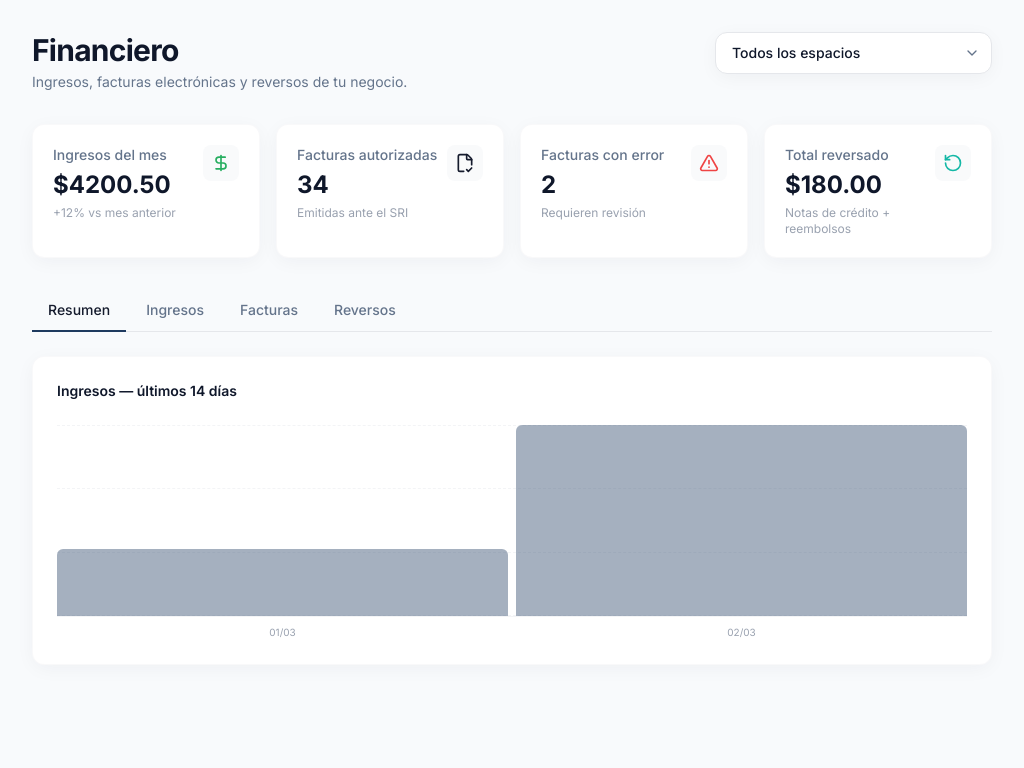
FinancieroModule › navega a la pestaña Facturas
Click the button "Facturas".
click(269, 311)  # box [224,290,314,332]
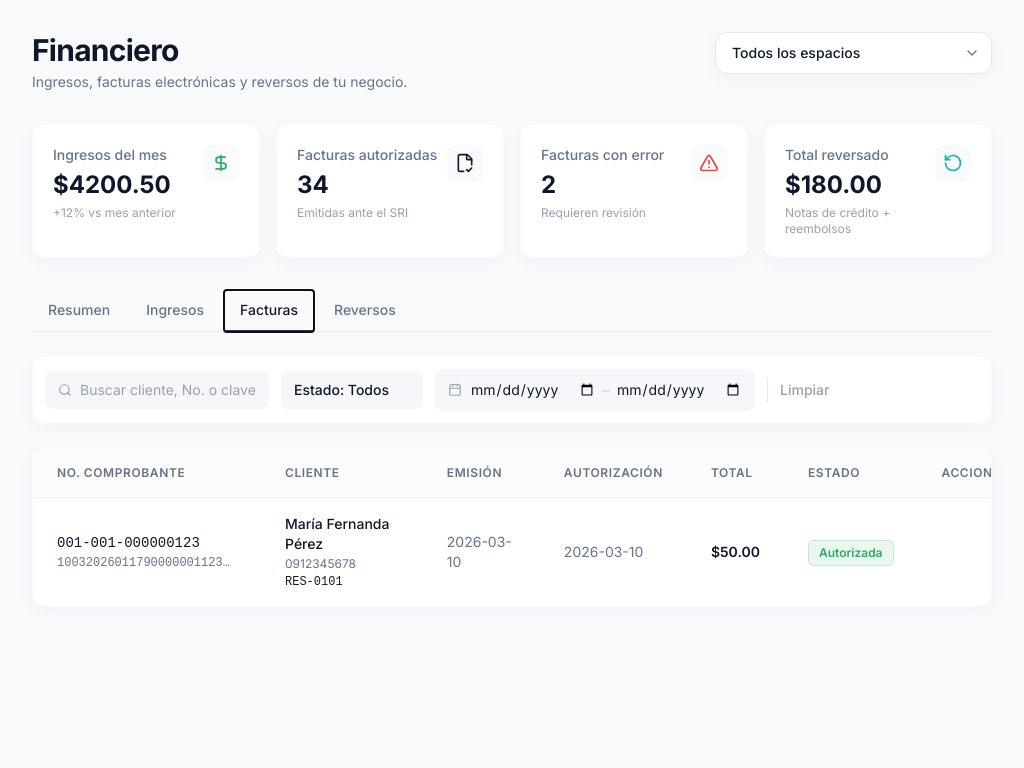
Now the text "001-001-000000123" is shown, box [57,535,200,551]
